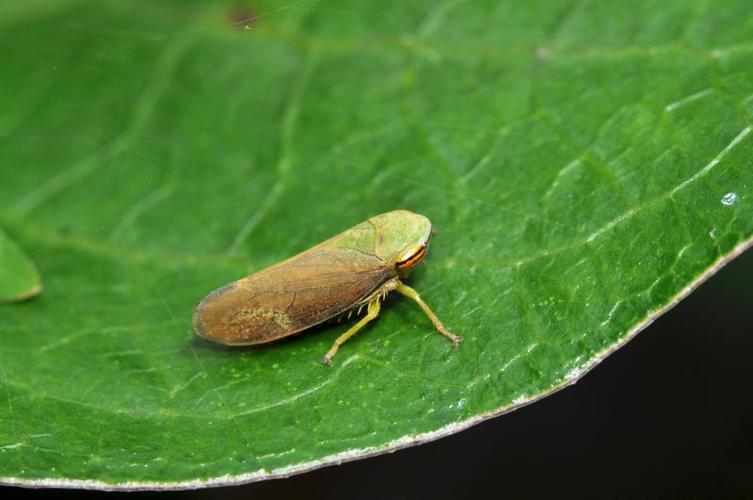Cicadellidae: (193, 209, 461, 360)
